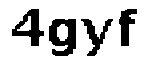4: (9, 5, 47, 48)
f: (114, 4, 141, 50)
g: (47, 16, 78, 60)
y: (77, 11, 115, 60)
